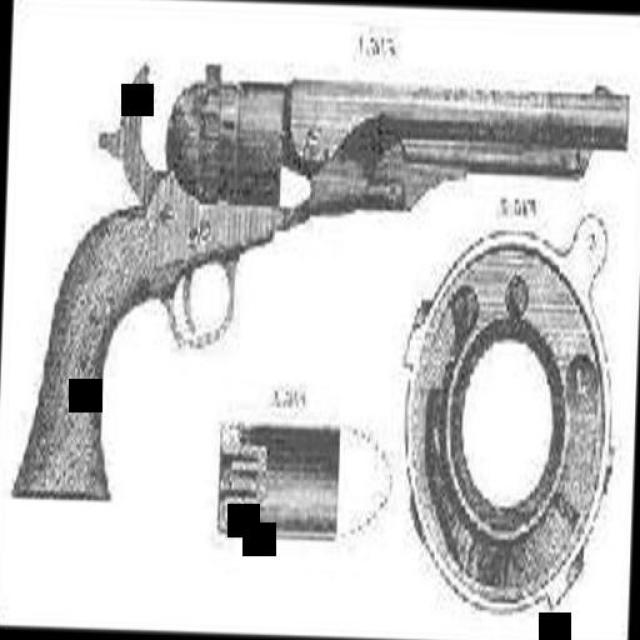gun: (9, 49, 630, 514)
